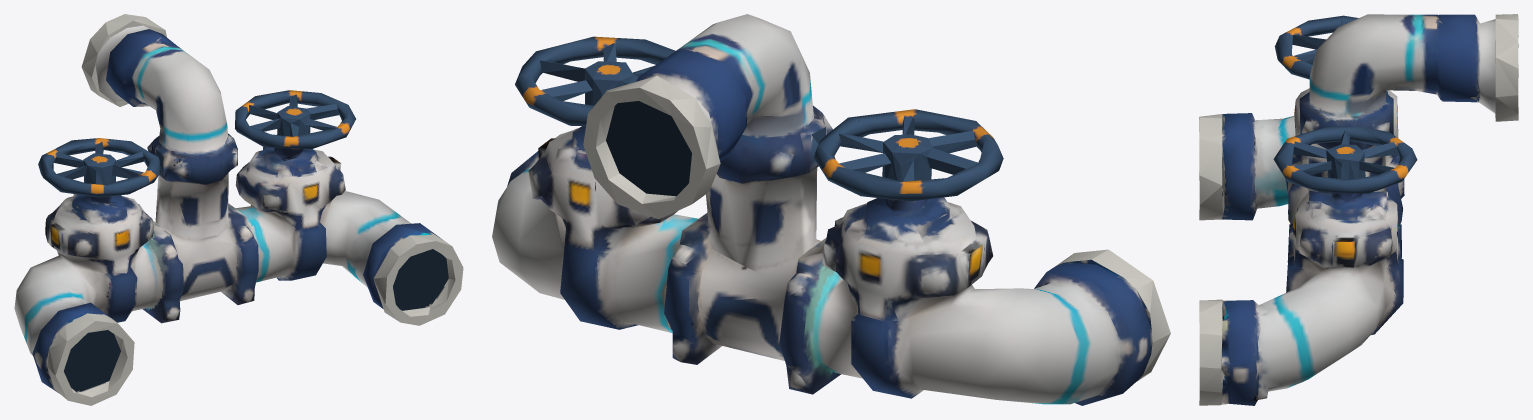
Rendered from cryo-valve-manifold_LOD2.glb.
3 renders of one model, left to right at view 1: azimuth 30°, elevation 25°; view 2: azimuth 150°, elevation 25°; view 3: azimuth 270°, elevation 25°, orthographic. The views are drawn at different scales.
Parts seen in each view (by area): view 1: cryo-valve-manifold_LOD2; view 2: cryo-valve-manifold_LOD2; view 3: cryo-valve-manifold_LOD2.
Boxes of the visible parts, left/top/right/bottom form: cryo-valve-manifold_LOD2: left=14, top=14, right=463, bottom=405; cryo-valve-manifold_LOD2: left=492, top=14, right=1170, bottom=405; cryo-valve-manifold_LOD2: left=1199, top=14, right=1518, bottom=405.
Size of the model in its own units: 2.31 by 1.35 by 1.35.
Materials: 1 (1 with a texture image).
